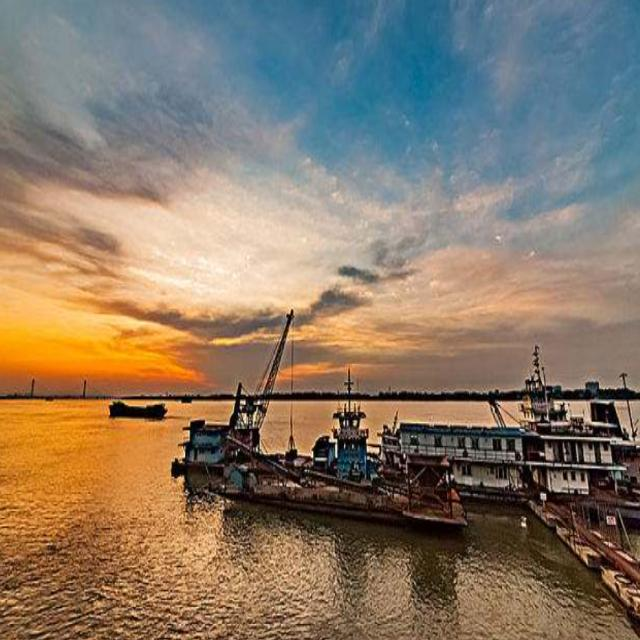cargoship: (171, 360, 460, 523)
